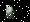person: (8, 7, 19, 20)
